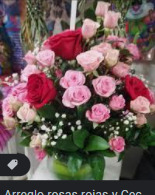RedRose: (47, 26, 85, 60), (25, 72, 59, 108)
